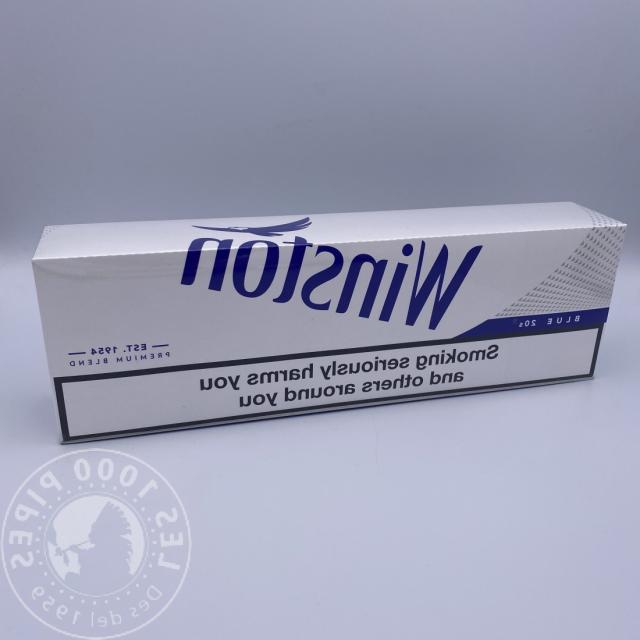winston: (29, 216, 620, 444)
